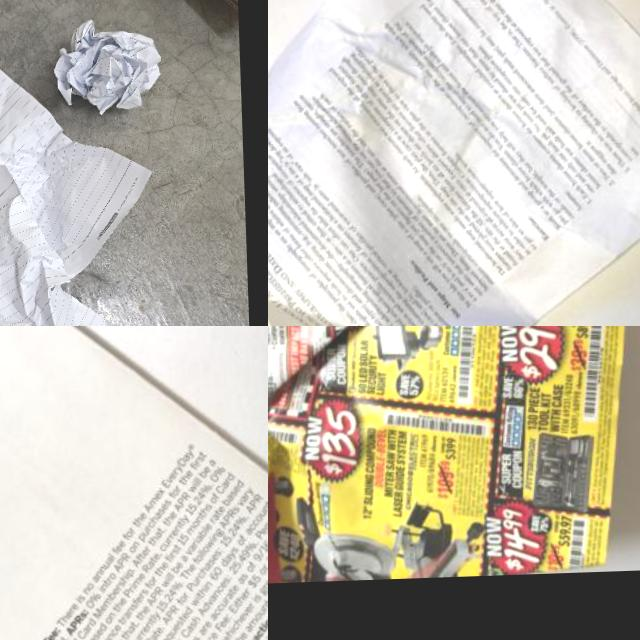papel: (268, 0, 640, 326), (268, 326, 637, 587), (0, 326, 268, 640), (0, 0, 155, 298), (0, 162, 145, 326), (52, 15, 161, 116)
